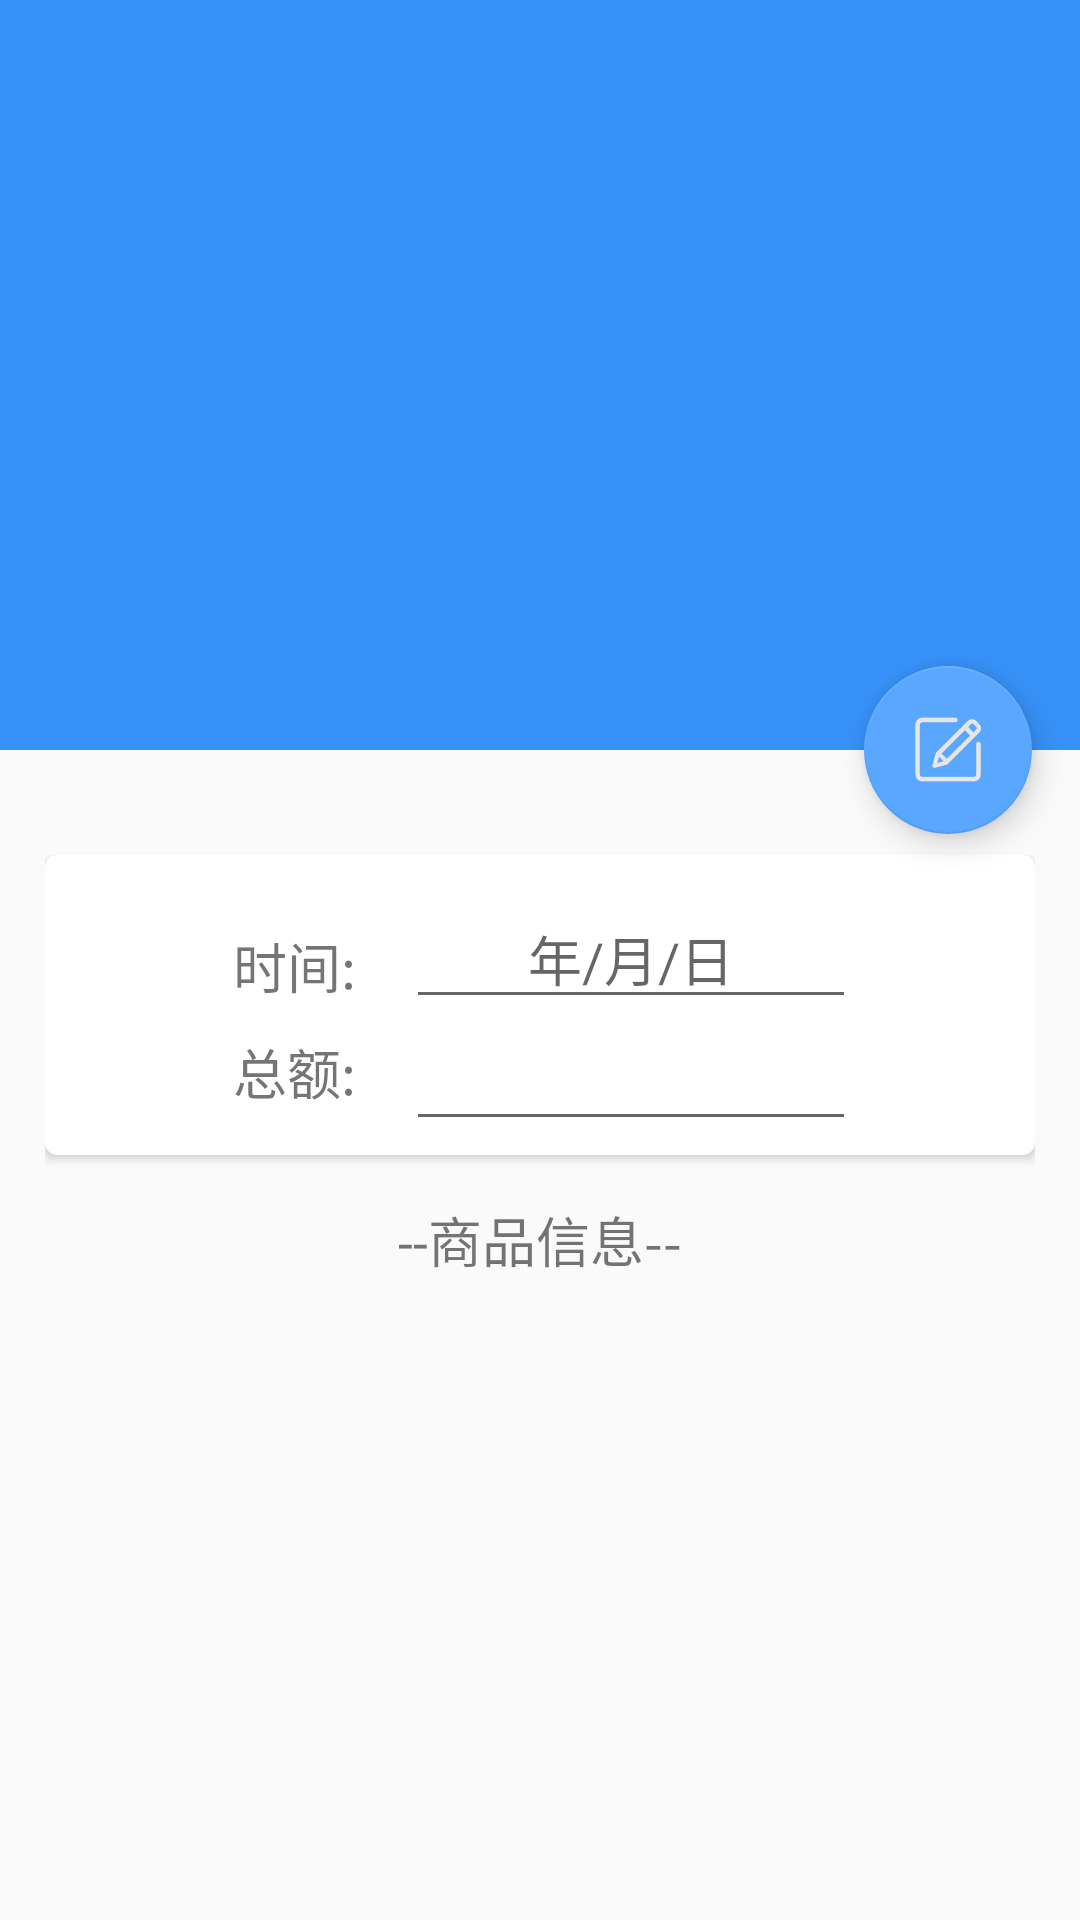

Named icons in this screenshot (1080x1920) and their centers, (x,y):
modify: (948,750)
